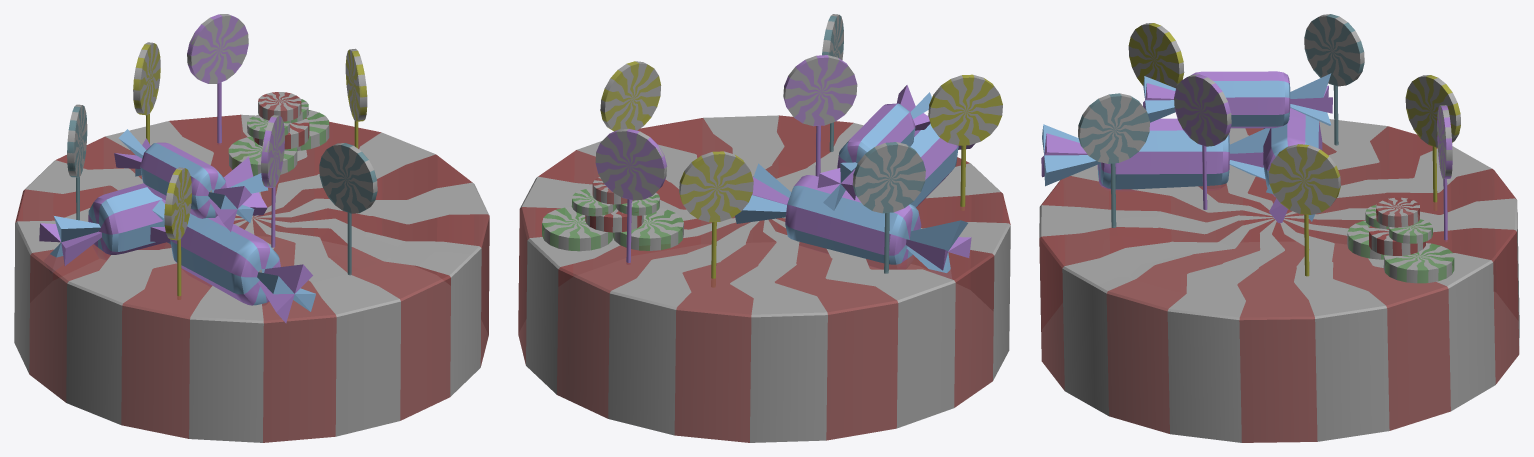
The model's file is island4.fbx.
3 views of the same model, side by side, from view 1: azimuth 30°, elevation 25°; view 2: azimuth 150°, elevation 25°; view 3: azimuth 270°, elevation 25° (orthographic). The views are drawn at different scales.
Parts seen in each view (by area): view 1: pasted__polySurface837, pasted__polySurface717, pasted__polySurface839, pasted__polySurface838, pasted__pasted__polySurface810 (×2), pasted__pasted__polySurface813, pasted__pasted__polySurface816 (×2), pasted__pasted__polySurface820, pasted__pasted__polySurface818, pasted__pasted__polySurface815, pasted__polySurface842, pasted__polySurface847 (+8 smaller); view 2: pasted__polySurface837, pasted__polySurface839, pasted__pasted__polySurface816 (×2), pasted__pasted__polySurface819 (×2), pasted__polySurface838, pasted__pasted__polySurface787, pasted__pasted__polySurface812, pasted__pasted__polySurface810 (×2), pasted__pasted__polySurface811, pasted__polySurface840, pasted__polySurface717, pasted__polySurface842 (+9 smaller); view 3: pasted__polySurface837, pasted__polySurface717, pasted__polySurface838, pasted__pasted__polySurface817, pasted__pasted__polySurface818, pasted__pasted__polySurface810 (×2), pasted__pasted__polySurface820 (×2), pasted__pasted__polySurface814, pasted__pasted__polySurface815, pasted__polySurface839, pasted__polySurface840, pasted__pasted__polySurface816 (×2) (+9 smaller).
Boxes of the visible parts, left/top/right/bottom form: pasted__polySurface837: left=14, top=114, right=489, bottom=442; pasted__polySurface717: left=150, top=198, right=315, bottom=323; pasted__polySurface839: left=39, top=157, right=268, bottom=272; pasted__polySurface838: left=114, top=129, right=254, bottom=231; pasted__pasted__polySurface810 (×2): left=187, top=15, right=284, bottom=187; pasted__pasted__polySurface813: left=319, top=143, right=376, bottom=213; pasted__pasted__polySurface816 (×2): left=187, top=14, right=283, bottom=187; pasted__pasted__polySurface820: left=134, top=42, right=160, bottom=115; pasted__pasted__polySurface818: left=321, top=143, right=377, bottom=211; pasted__pasted__polySurface815: left=166, top=167, right=191, bottom=240; pasted__polySurface842: left=228, top=136, right=297, bottom=176; pasted__polySurface847: left=258, top=92, right=301, bottom=121; pasted__polySurface837: left=518, top=115, right=1010, bottom=442; pasted__polySurface839: left=735, top=163, right=971, bottom=278; pasted__pasted__polySurface816 (×2): left=595, top=55, right=857, bottom=200; pasted__pasted__polySurface819 (×2): left=679, top=78, right=1002, bottom=222; pasted__polySurface838: left=817, top=85, right=931, bottom=210; pasted__pasted__polySurface787: left=929, top=77, right=1002, bottom=145; pasted__pasted__polySurface812: left=853, top=142, right=925, bottom=213; pasted__pasted__polySurface810 (×2): left=596, top=55, right=856, bottom=199; pasted__pasted__polySurface811: left=601, top=62, right=661, bottom=131; pasted__polySurface840: left=542, top=207, right=612, bottom=251; pasted__polySurface717: left=910, top=115, right=975, bottom=207; pasted__polySurface842: left=613, top=208, right=683, bottom=250; pasted__polySurface837: left=1039, top=119, right=1519, bottom=442; pasted__polySurface717: left=1041, top=118, right=1270, bottom=190; pasted__polySurface838: left=1143, top=71, right=1332, bottom=128; pasted__pasted__polySurface817: left=1268, top=144, right=1340, bottom=214; pasted__pasted__polySurface818: left=1078, top=93, right=1149, bottom=163; pasted__pasted__polySurface810 (×2): left=1174, top=75, right=1451, bottom=178; pasted__pasted__polySurface820 (×2): left=1129, top=24, right=1459, bottom=147; pasted__pasted__polySurface814: left=1304, top=15, right=1363, bottom=86; pasted__pasted__polySurface815: left=1128, top=23, right=1182, bottom=88; pasted__polySurface839: left=1263, top=108, right=1322, bottom=224; pasted__polySurface840: left=1383, top=243, right=1454, bottom=283; pasted__pasted__polySurface816 (×2): left=1175, top=74, right=1452, bottom=178.
Size of the model in its own units: 81.7 by 49.14 by 82.03.
